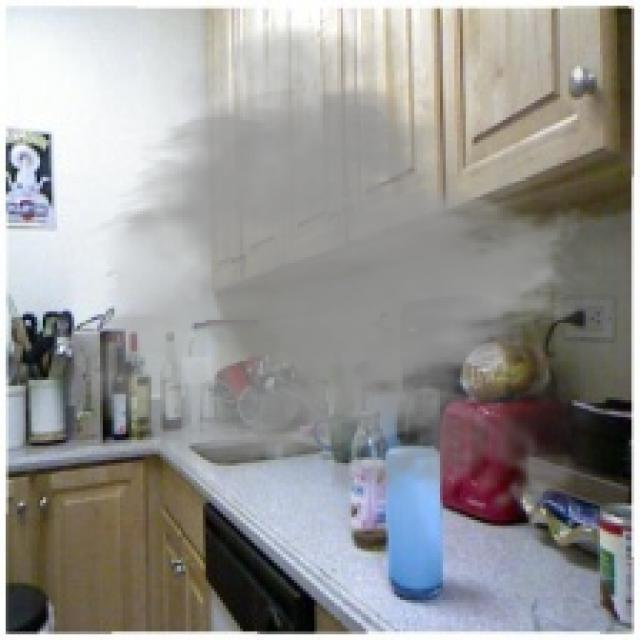smoke: (71, 14, 632, 529)
